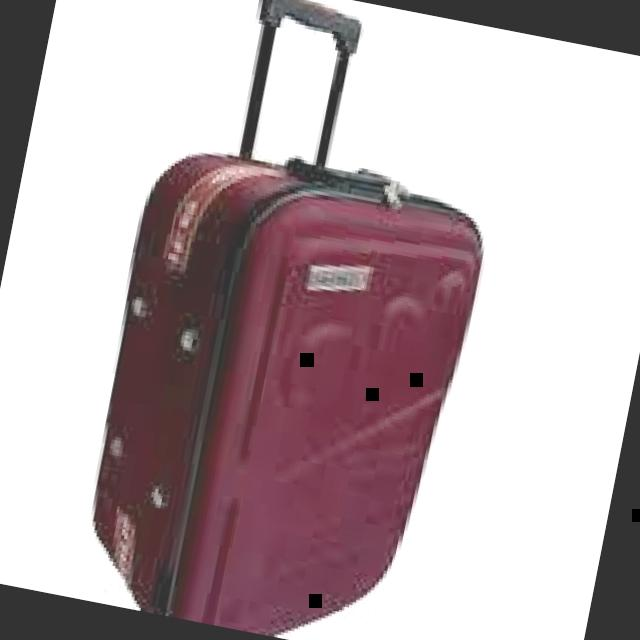luggage: (60, 121, 514, 640)
